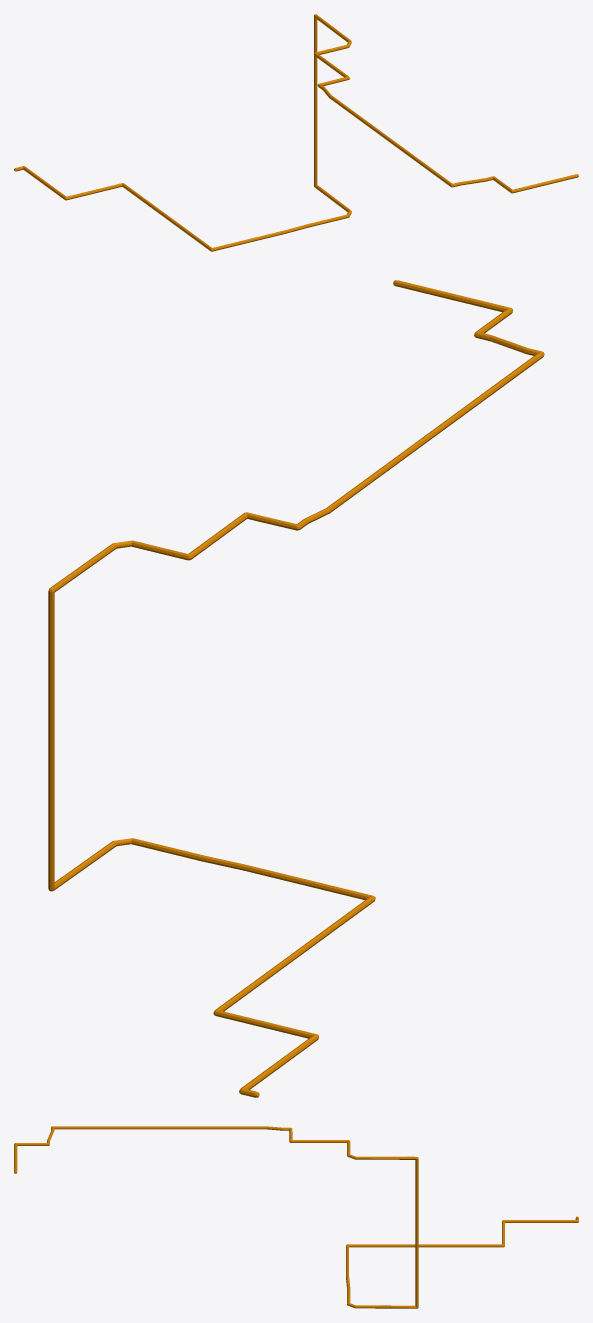
3 renders of one model, top to bottom at view 1: azimuth 30°, elevation 25°; view 2: azimuth 150°, elevation 25°; view 3: azimuth 270°, elevation 25°, orthographic. The views are drawn at different scales.
Size of the model in its own units: 1504 by 1020 by 3441.
